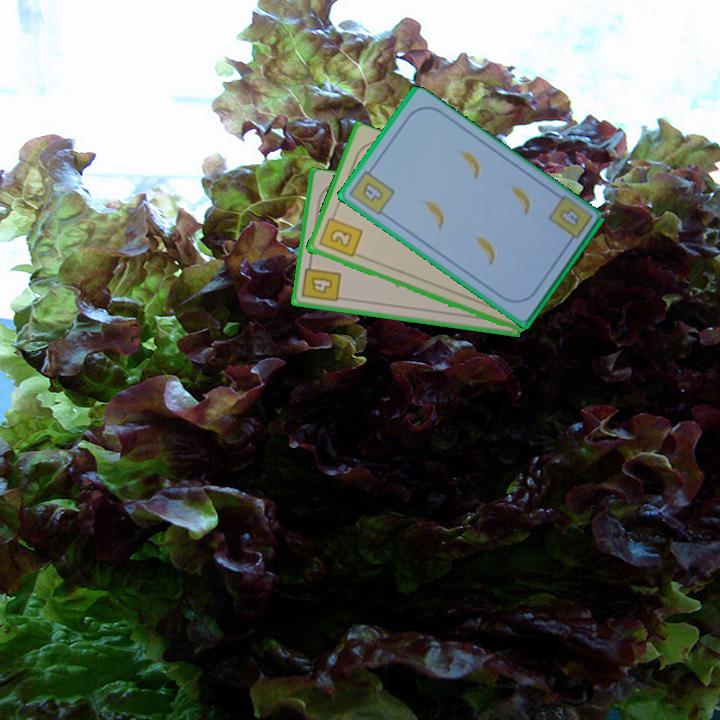2b: (315, 209, 365, 260)
4b: (345, 163, 398, 218), (298, 258, 344, 305), (555, 204, 583, 231)
